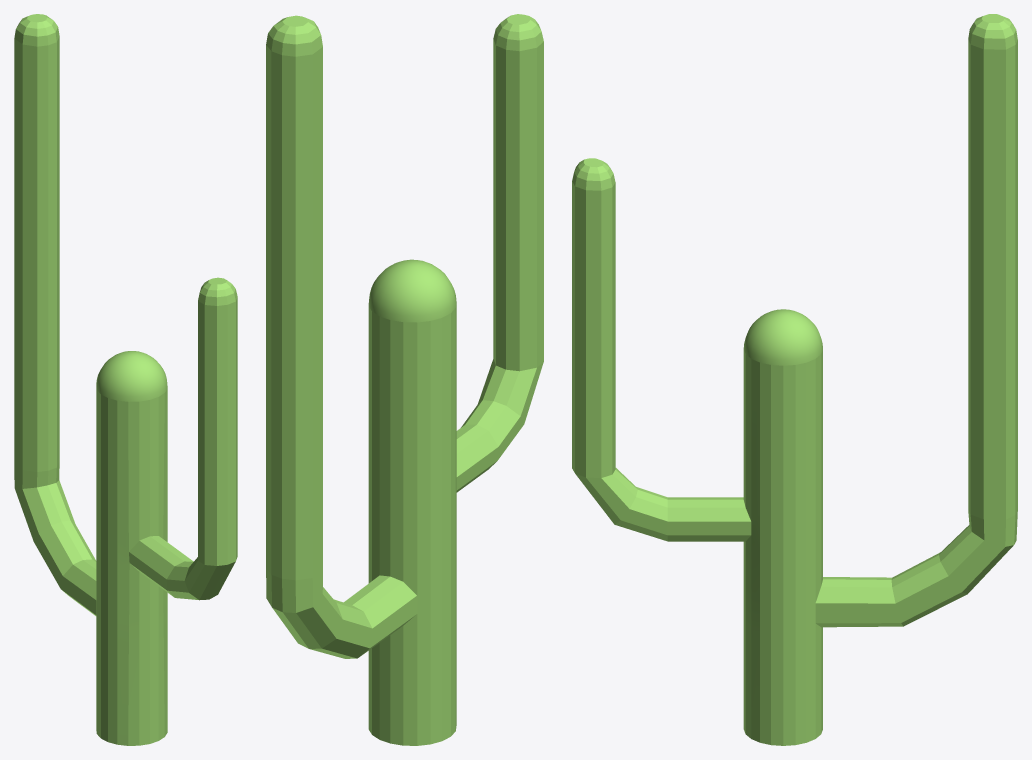
The model's file is Cactus.fbx.
3 views of the same model, side by side, from view 1: azimuth 30°, elevation 25°; view 2: azimuth 150°, elevation 25°; view 3: azimuth 270°, elevation 25° (orthographic). The views are drawn at different scales.
Parts seen in each view (by area): view 1: pSphere1; view 2: pSphere1; view 3: pSphere1.
Part boxes in pixels (left/top/right/bottom): pSphere1: left=14, top=14, right=237, bottom=745; pSphere1: left=266, top=14, right=543, bottom=745; pSphere1: left=572, top=14, right=1017, bottom=745.
Size of the model in its own units: 2 by 19.75 by 11.22.
